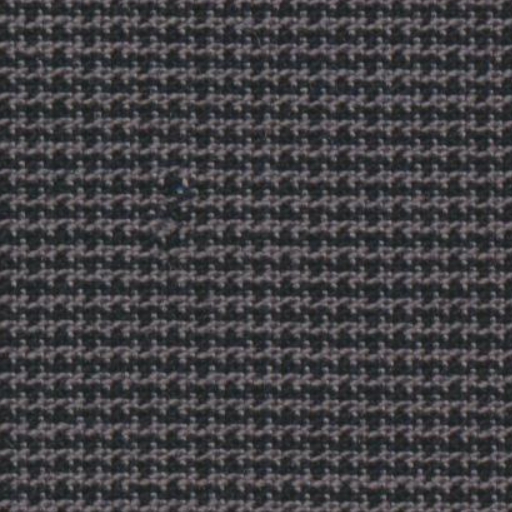PoDong: (116, 162, 228, 250)
